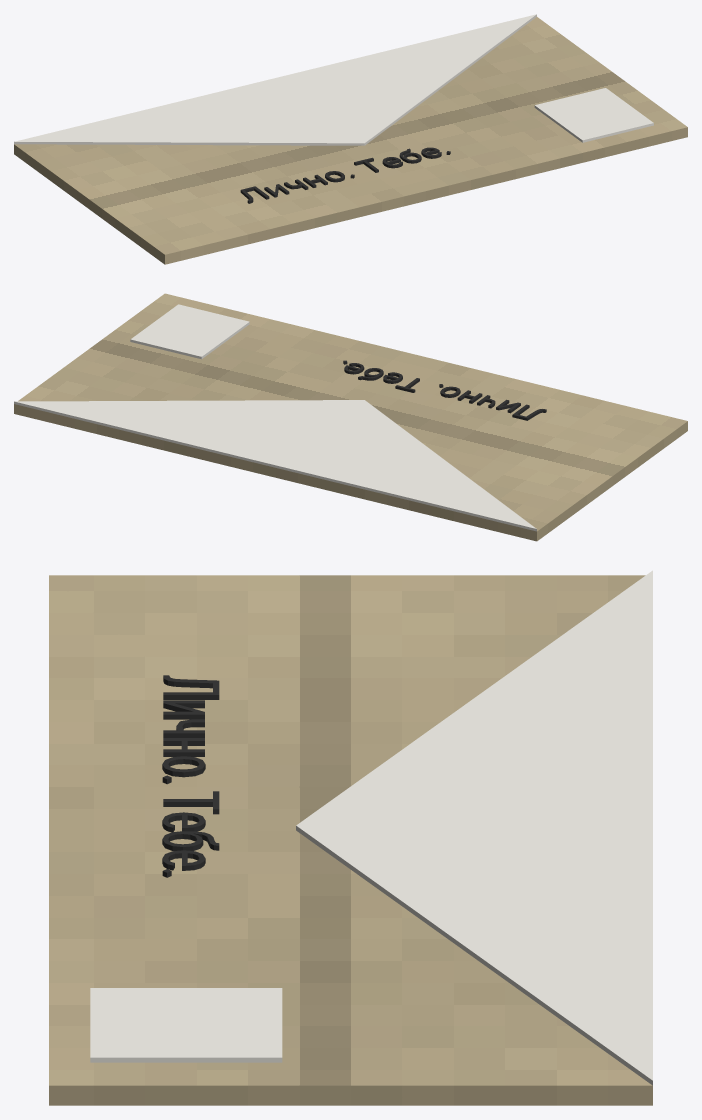
The model's file is envelope.glb.
3 views of the same model, one above another, from view 1: azimuth 30°, elevation 25°; view 2: azimuth 150°, elevation 25°; view 3: azimuth 270°, elevation 25° (orthographic). The views are drawn at different scales.
Visible parts, largest first — view 1: envelope; view 2: envelope; view 3: envelope.
Boxes of the visible parts, x1,y1,x2,y2 form: envelope: (14,14,687,264); envelope: (14,293,687,541); envelope: (49,570,652,1105).
Bounding box in the file's own units: 0.22 × 0.006 × 0.11.
Materials: 3 (1 with a texture image).
